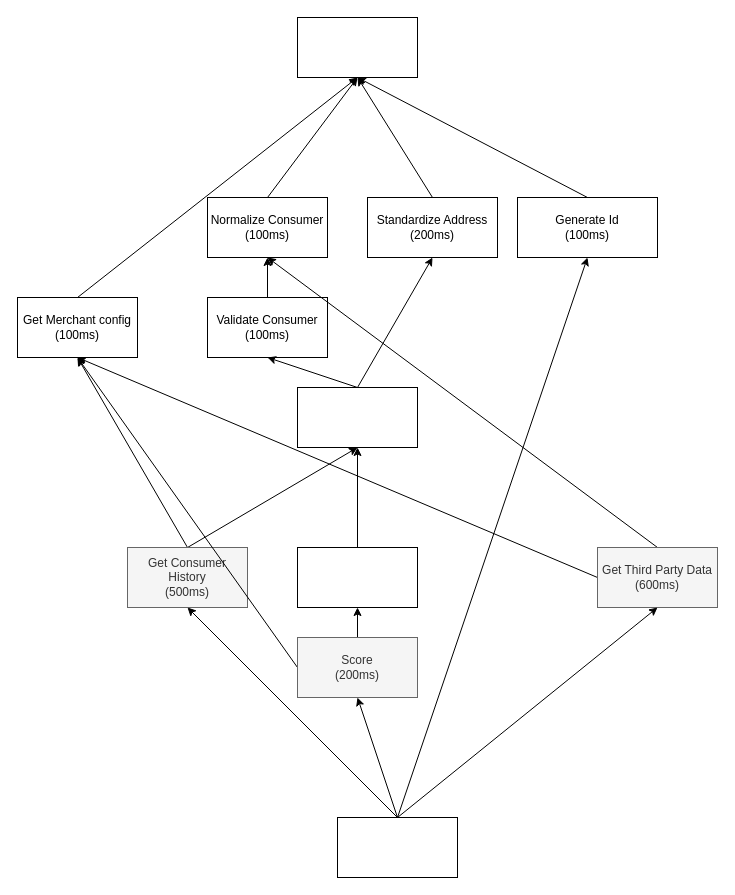
The diagram is 735 pixels wide and 895 high, and some of its shapes have lost their labels. The centre of each missing label's shape, as x and y in pixels:
"Inquiry Request" belongs at pixel 357 47.
"Inquiry Response" belongs at pixel 397 847.
"Match Consumer (100ms)" belongs at pixel 357 417.
"Save Inquiry (300ms)" belongs at pixel 357 577.
